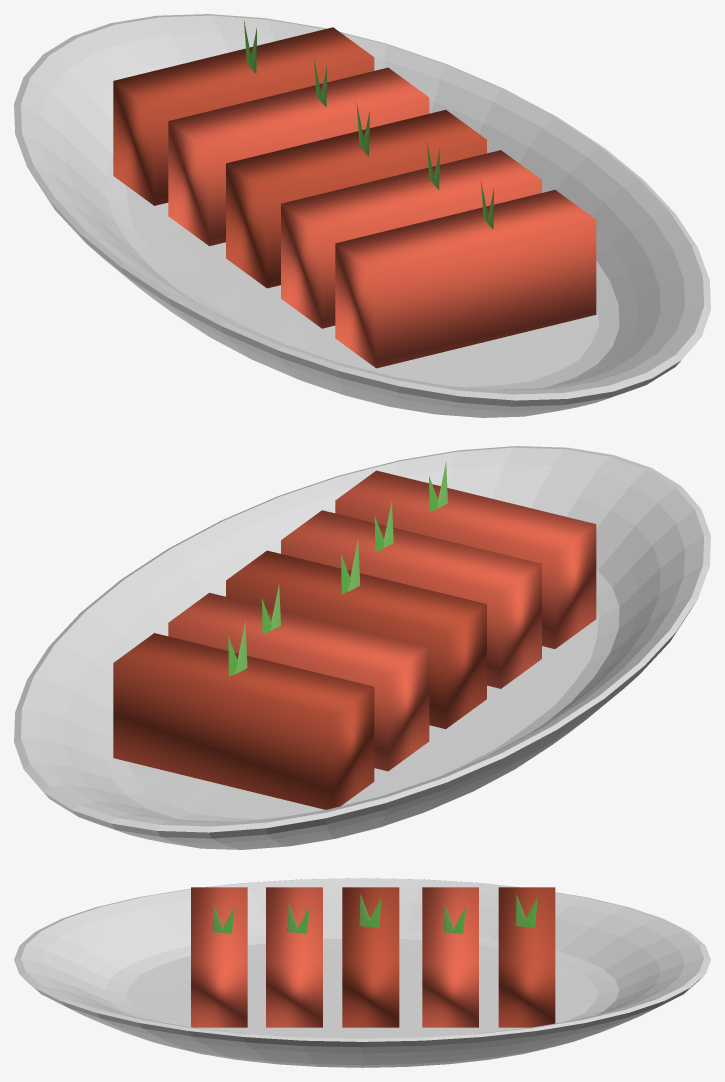
Rendered from kue karitsolo.fbx.
3 renders of one model, top to bottom at view 1: azimuth 30°, elevation 25°; view 2: azimuth 150°, elevation 25°; view 3: azimuth 270°, elevation 25°, orthographic. The views are drawn at different scales.
Visible parts, largest first — view 1: Cylinder, Cube.004, Cube.001, Cube, Cube.002, Cube.003; view 2: Cylinder, Cube, Cube.002, Cube.001, Cube.003, Cube.004; view 3: Cylinder, Cube.002, Cube, Cube.001, Cube.003, Cube.004.
Part boxes in pixels (x1=…): Cylinder: x1=14, y1=14, x2=710, y2=417; Cube.004: x1=335, y1=190, x2=596, y2=368; Cube.001: x1=168, y1=67, x2=429, y2=245; Cube: x1=113, y1=27, x2=374, y2=205; Cube.002: x1=226, y1=109, x2=486, y2=288; Cube.003: x1=281, y1=150, x2=541, y2=328; Cylinder: x1=14, y1=446, x2=710, y2=849; Cube: x1=113, y1=633, x2=374, y2=809; Cube.002: x1=226, y1=550, x2=486, y2=728; Cube.001: x1=168, y1=592, x2=429, y2=771; Cube.003: x1=281, y1=510, x2=541, y2=688; Cube.004: x1=335, y1=470, x2=596, y2=648; Cylinder: x1=14, y1=878, x2=710, y2=1067; Cube.002: x1=342, y1=887, x2=399, y2=1027; Cube: x1=498, y1=887, x2=555, y2=1027; Cube.001: x1=422, y1=887, x2=478, y2=1027; Cube.003: x1=266, y1=887, x2=322, y2=1027; Cube.004: x1=191, y1=887, x2=247, y2=1027.
Size of the model in its own units: 164 by 56.4 by 295.
